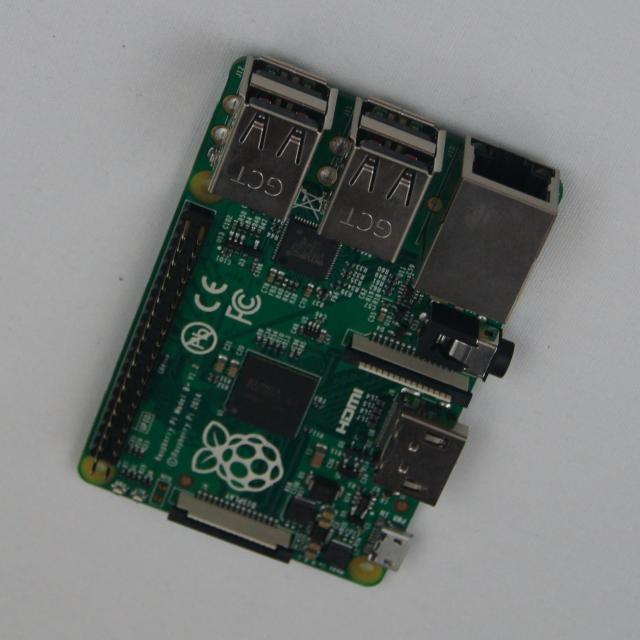Raspberry Pi 1 B-: (79, 57, 564, 586)
